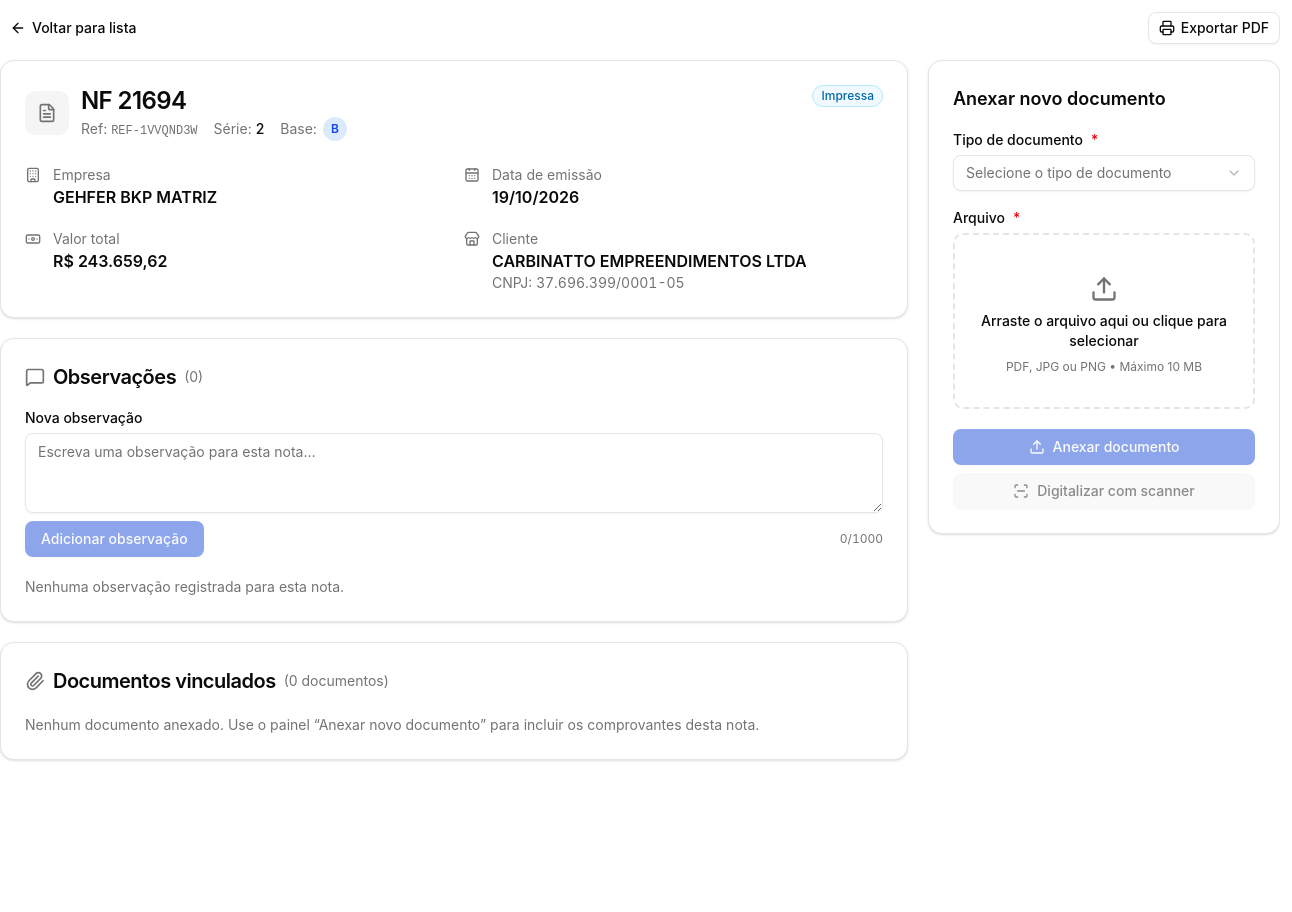
Test: NotaFiscalPage › adiciona uma observação
Check: the button "Adicionar observação" is disabled, box [25, 521, 204, 557]
Type "Canhoto chegou rasgado." into the text box labelled "Nova observação" at (454, 473), box [25, 433, 883, 513]
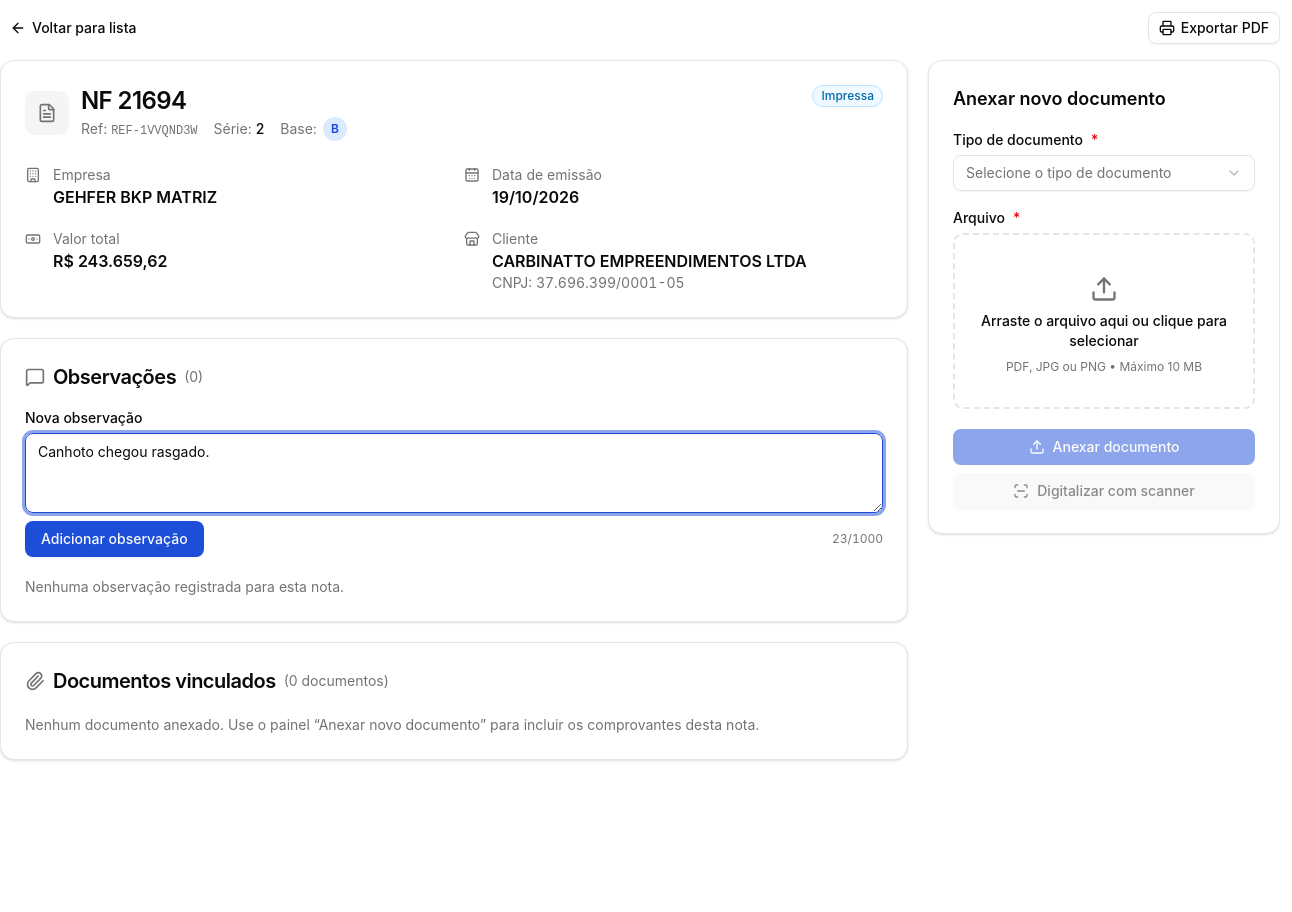
Click the button "Adicionar observação" at (114, 539), box [25, 521, 204, 557]
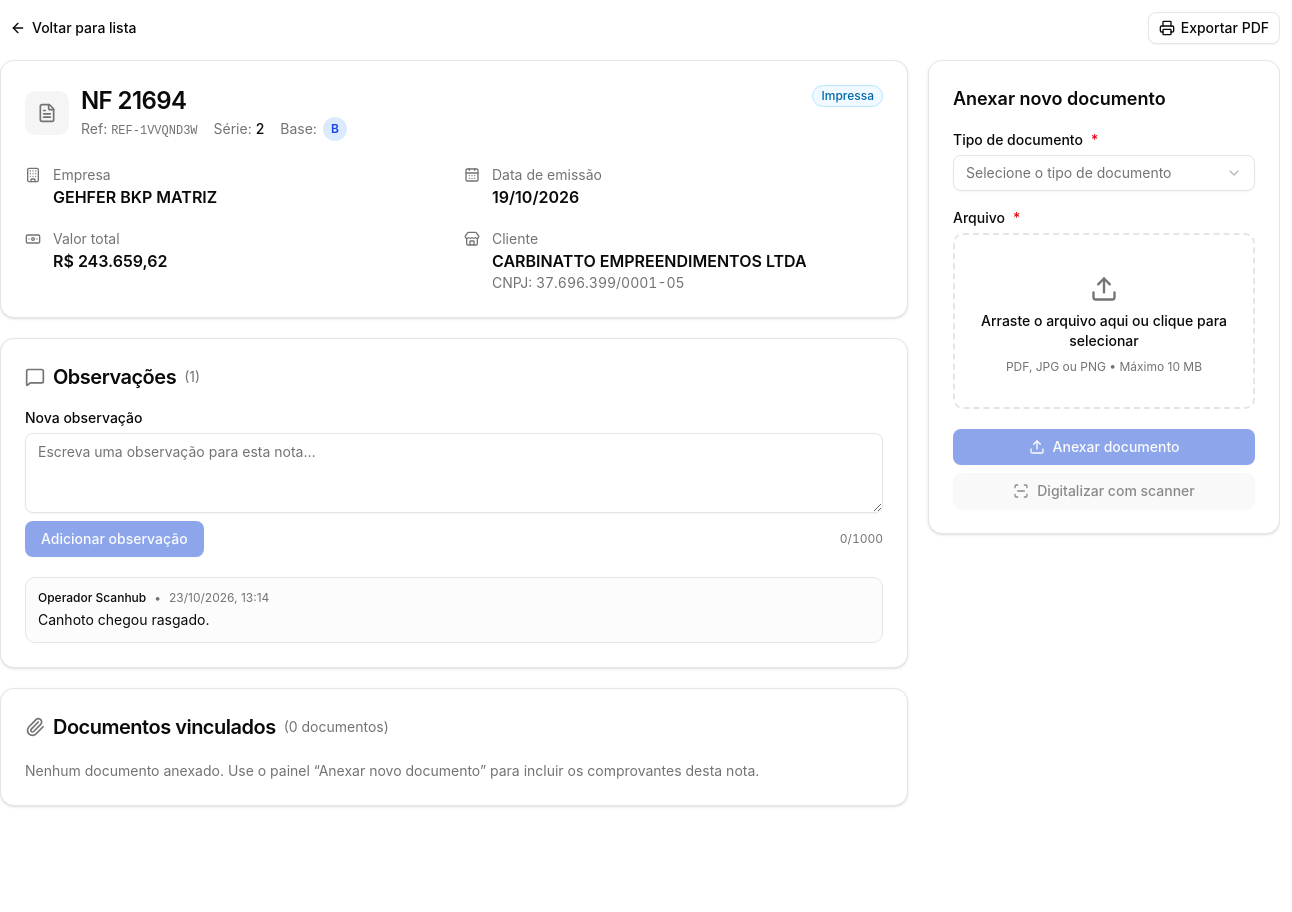
Check: the text "Canhoto chegou rasgado." is shown, box [38, 611, 209, 628]
Check: the text box labelled "Nova observação" is empty, box [25, 433, 883, 513]
